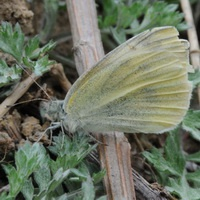insect: (64, 26, 191, 132)
